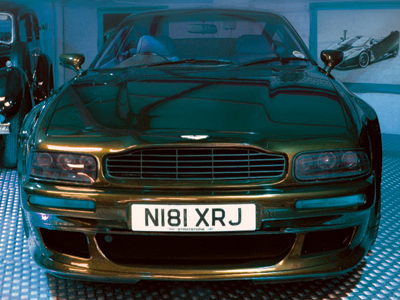licencePlate: (132, 203, 256, 230)
